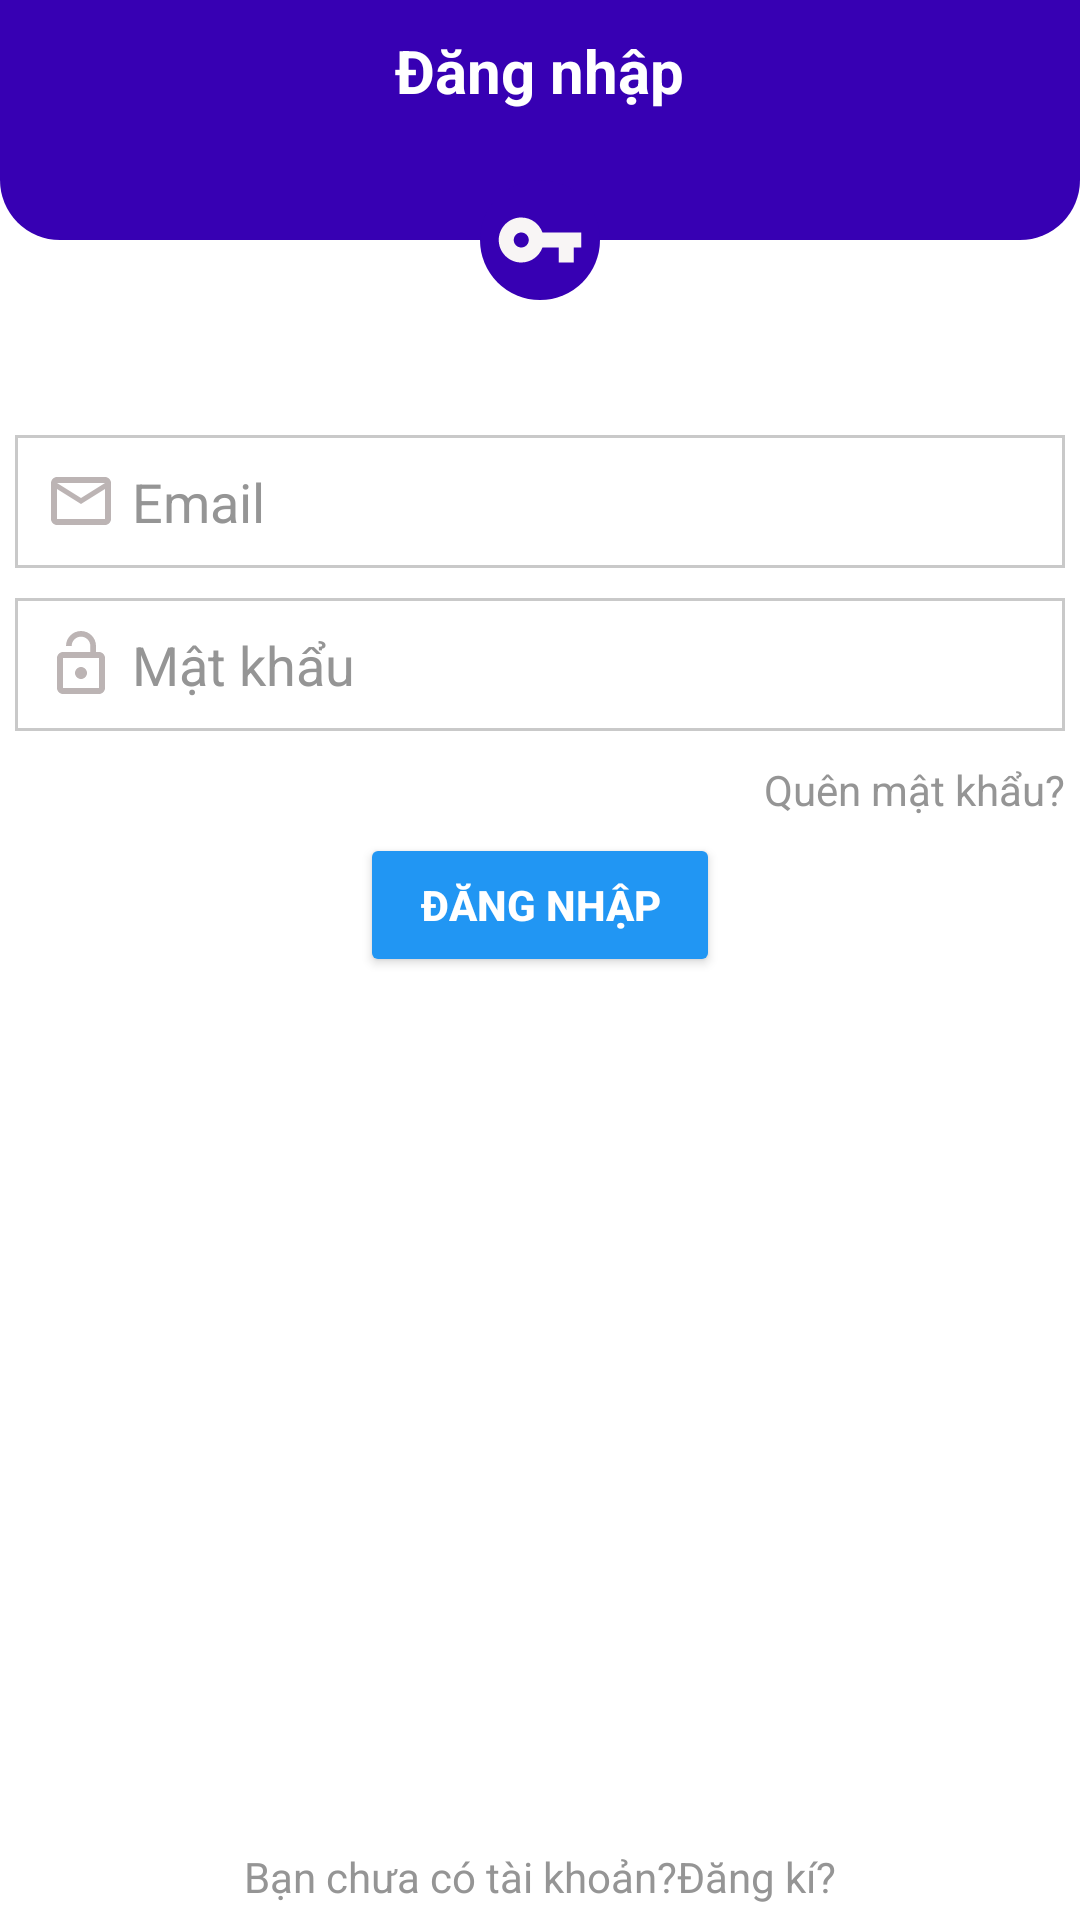

Where to tap for icons on this 1080x1920 app screen, as point (x, y):
key: point (540, 240)
